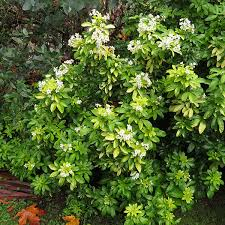flower: (46, 89, 52, 94)
